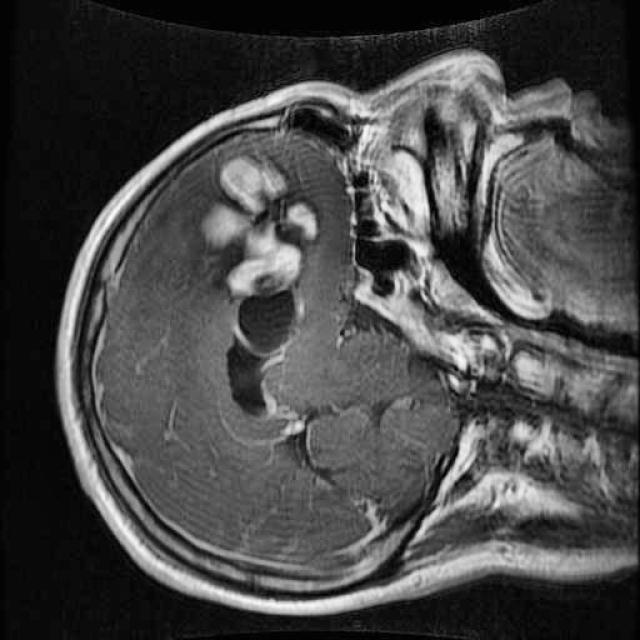Non-Tumor: (179, 131, 339, 449)
